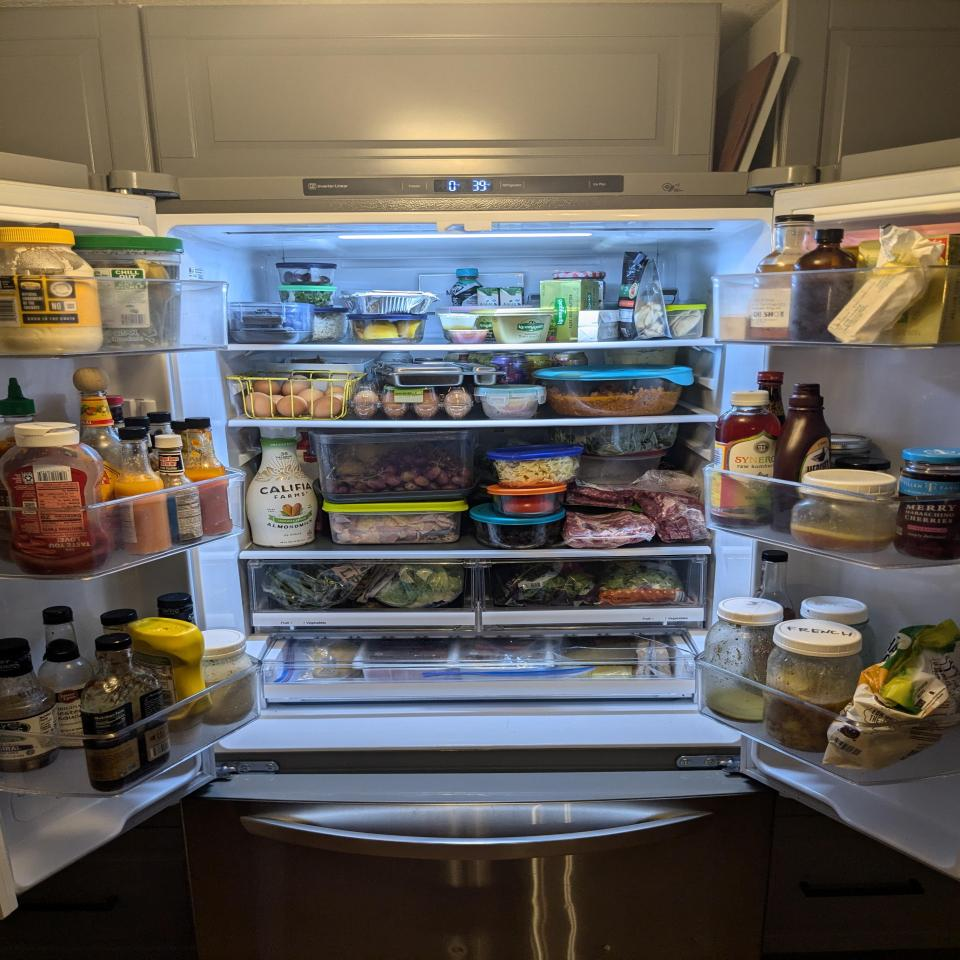Huevos: (244, 375, 346, 419), (351, 385, 473, 419)
blueberries: (229, 310, 313, 344)
mayonnaise: (1, 228, 103, 352)
mustard: (127, 618, 211, 744)
